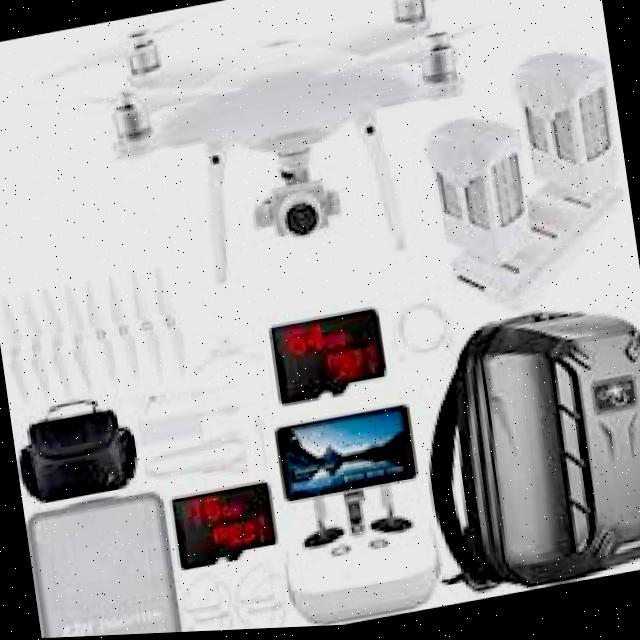drone: (19, 0, 527, 329)
